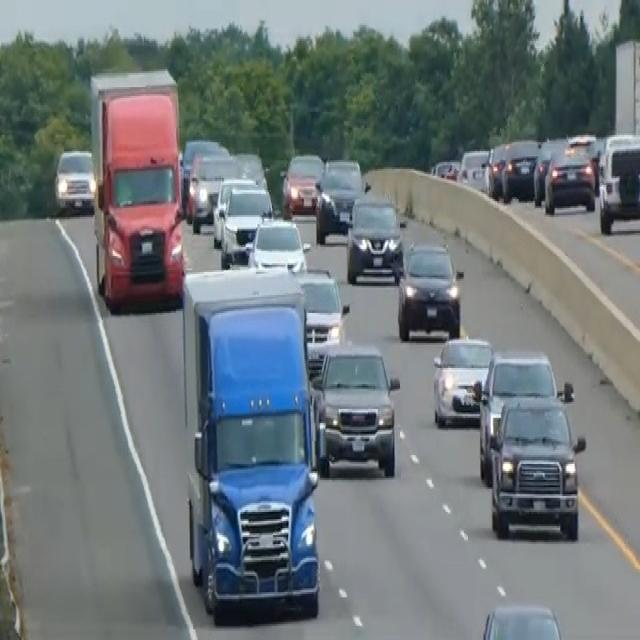car: (488, 390, 586, 540), (473, 348, 565, 482), (311, 340, 400, 478), (396, 238, 463, 340), (431, 332, 494, 427), (294, 265, 348, 373), (345, 192, 404, 284), (314, 154, 366, 242), (219, 181, 273, 265), (186, 151, 242, 231), (597, 133, 639, 235), (246, 213, 310, 274), (543, 144, 596, 215), (179, 135, 226, 210), (210, 174, 256, 246), (478, 601, 566, 638), (280, 149, 324, 217), (54, 146, 95, 213), (500, 137, 540, 203), (532, 135, 567, 205), (483, 139, 510, 197), (457, 146, 489, 192), (231, 148, 267, 188), (431, 156, 460, 182)
lorry: (179, 262, 324, 620), (88, 66, 185, 309)
